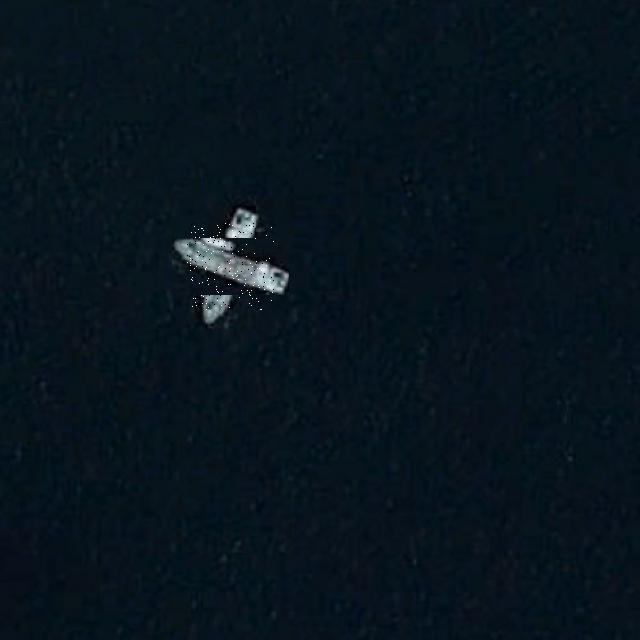boat: (187, 223, 274, 310)
